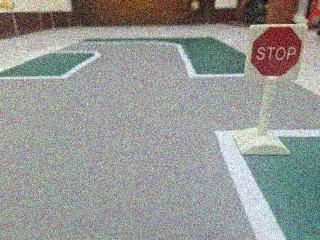stop: (251, 24, 307, 85)
